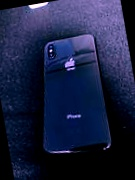iphone: (33, 38, 104, 159)
